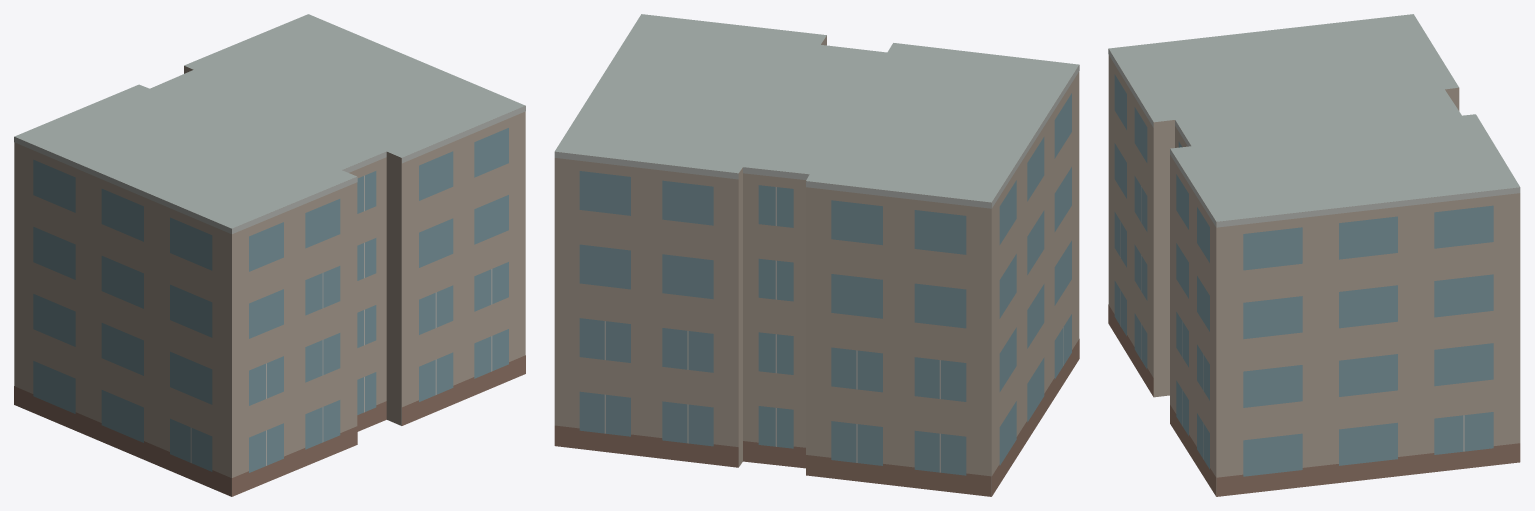
The model's file is survey-upis-32720944.glb.
The picture shows the model from 3 angles, left to right: view 1: azimuth 30°, elevation 25°; view 2: azimuth 150°, elevation 25°; view 3: azimuth 270°, elevation 25°; orthographic projection. The views are drawn at different scales.
Parts seen in each view (by area): view 1: survey-upis-32720944.tmp; view 2: survey-upis-32720944.tmp; view 3: survey-upis-32720944.tmp.
Boxes of the visible parts, box(x1,y1,x2,y2) form: survey-upis-32720944.tmp: box(14, 14, 525, 496); survey-upis-32720944.tmp: box(554, 14, 1079, 496); survey-upis-32720944.tmp: box(1108, 14, 1520, 496).
Bounding box in the file's own units: 18.81 × 11.6 × 15.76.
